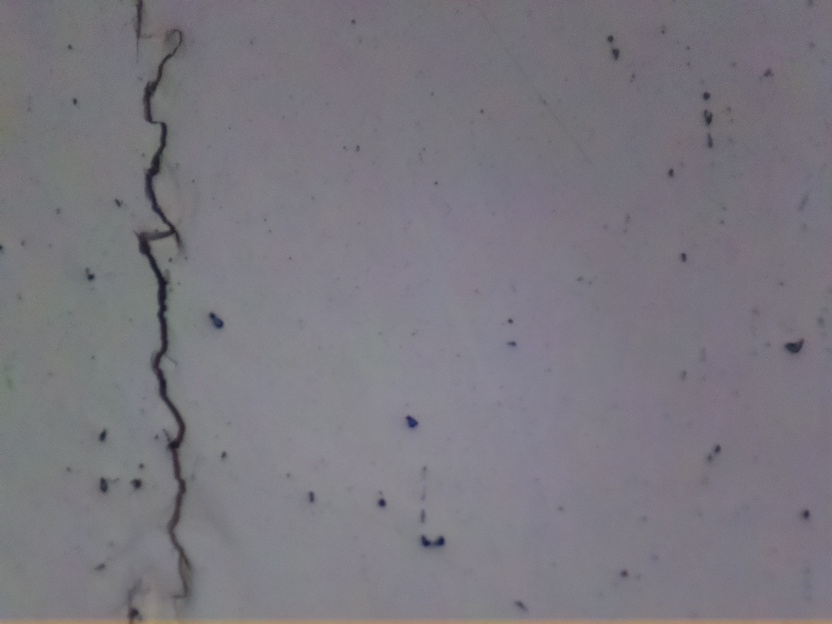crack: (133, 28, 196, 597), (126, 1, 149, 44)
